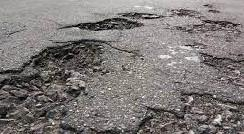crack: (5, 26, 28, 36)
pothole: (0, 37, 111, 134), (127, 89, 244, 133), (197, 51, 244, 89), (56, 17, 146, 32), (175, 19, 243, 36), (120, 10, 166, 20), (171, 7, 202, 18), (207, 8, 221, 14), (203, 3, 216, 8)
